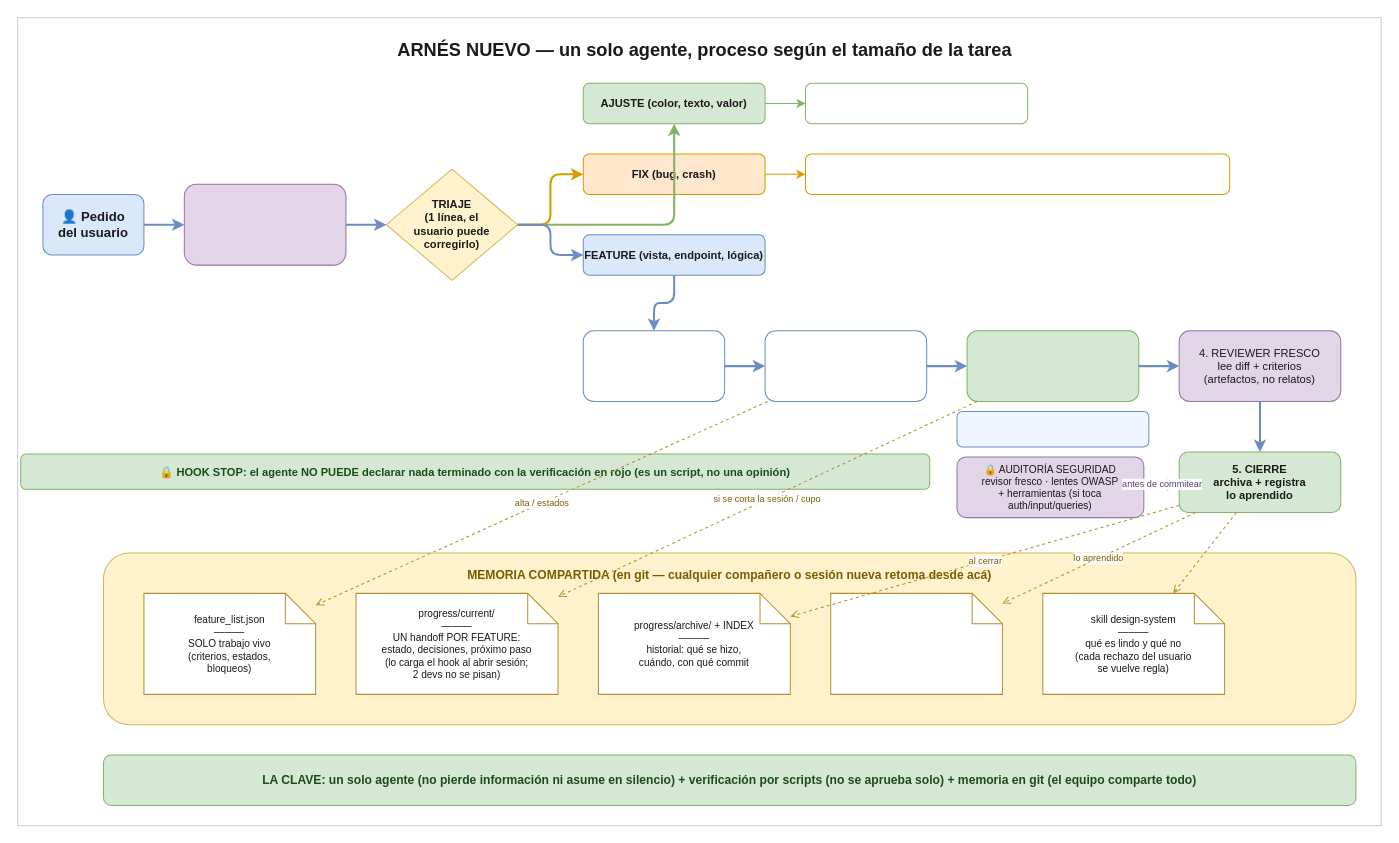
This 1399x843 diagram has some shape labels left out. Here are the shapes that lost their labels. From the top down, the centre of each, then its label:
point (916, 103): cambio directo → verify quick ✅
point (1017, 173): test que reproduce (ROJO) → fix → sabotage check → verify fix ✅
point (264, 224): WIP-gate ¿hay tareas a medias? → el usuario decide qué hacer con ellas
point (653, 365): 1. ENTREVISTA pregunta hasta agotar dudas ↔ 👤
point (845, 365): 2. CONTRATO criterios verificables + comando de verificación (ANTES de codear)
point (1052, 365): 3. LOOP AUTÓNOMO codear → verify.sh ⟳ hasta VERDE (duda → pregunta, no asume)
point (1052, 429): si hay UI: screenshot de la app + clonar apartado de referencia
point (916, 643): docs/lessons.md ――― trampas técnicas, contratos, gotchas
